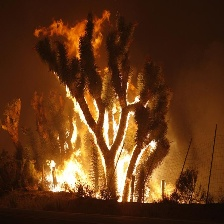fire: (111, 94, 159, 199), (65, 87, 107, 162), (46, 16, 110, 62), (42, 143, 89, 196)
smoke: (163, 6, 223, 194)
